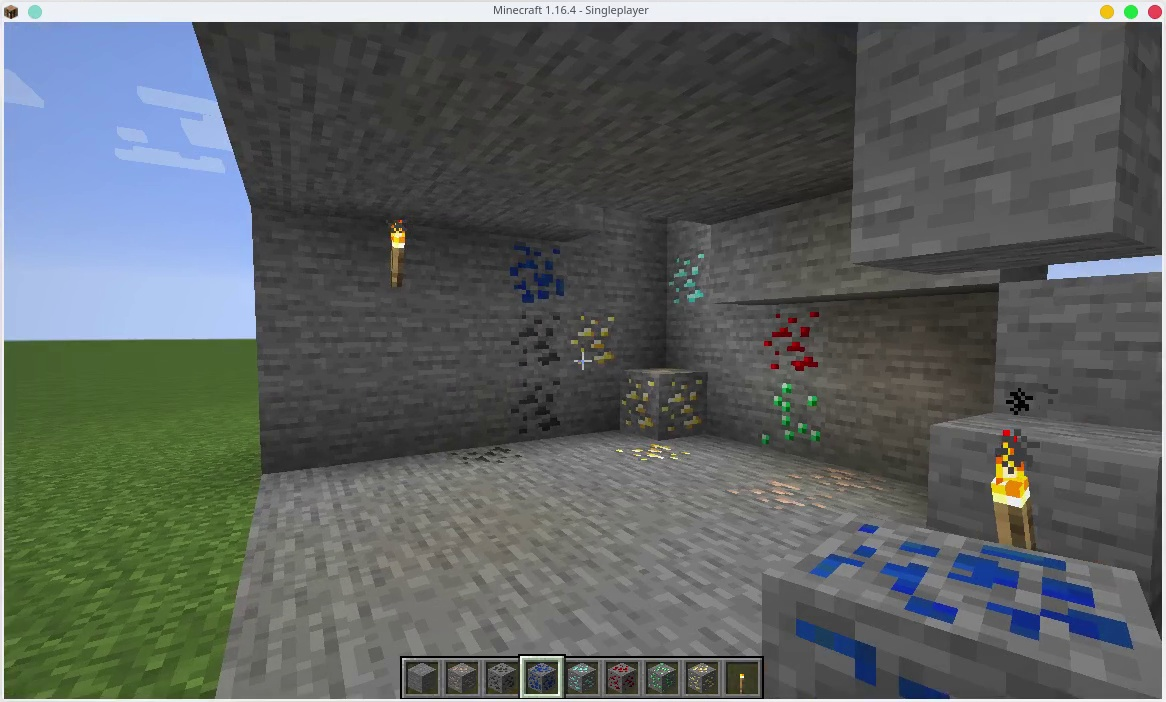gold: (621, 369, 707, 433), (569, 308, 619, 365), (615, 437, 700, 470), (682, 658, 715, 693)
